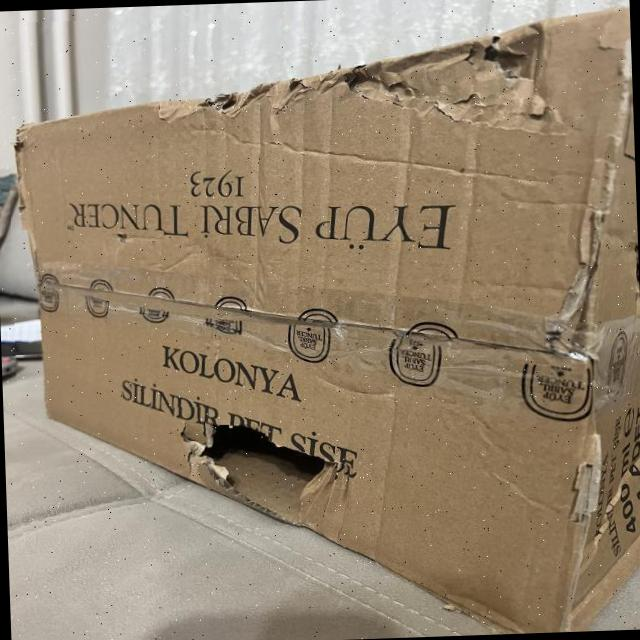box: (59, 225, 430, 600), (386, 19, 640, 271), (355, 145, 635, 371)
